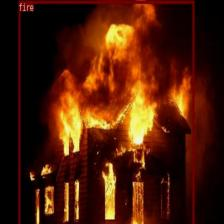fire: (18, 0, 194, 224)
